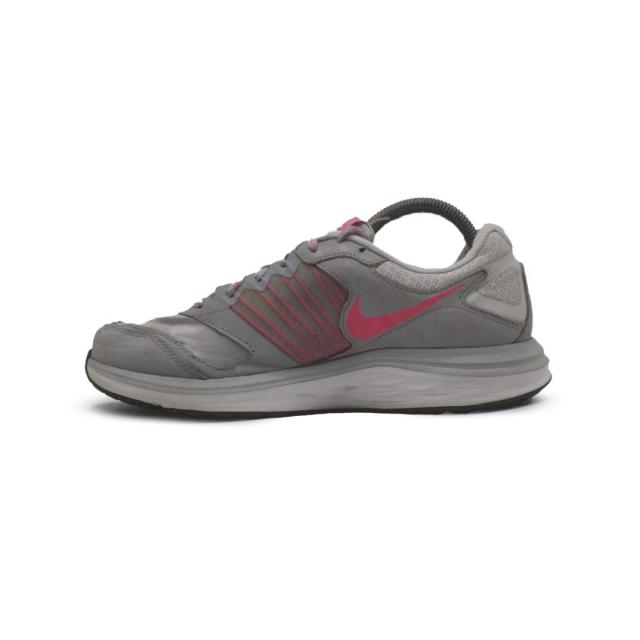heel: (471, 225, 532, 343)
midsole: (81, 340, 548, 419)
uppersole: (93, 219, 490, 382)
